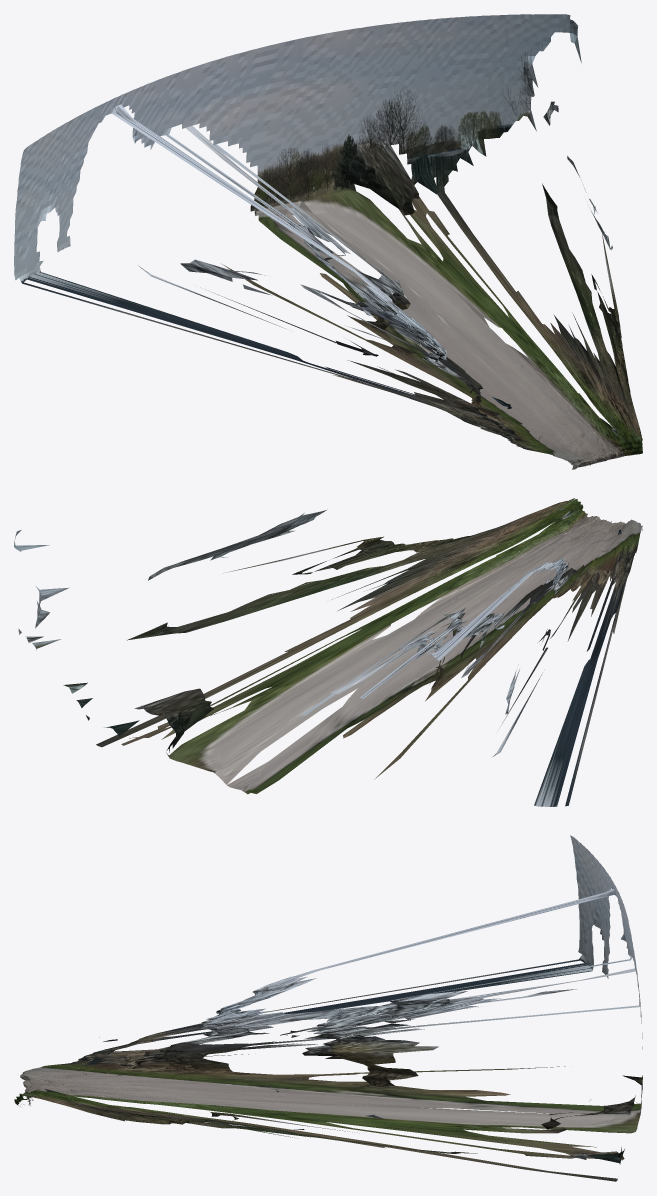
3 renders of one model, top to bottom at view 1: azimuth 30°, elevation 25°; view 2: azimuth 150°, elevation 25°; view 3: azimuth 270°, elevation 25°, orthographic. The views are drawn at different scales.
Parts seen in each view (by area): view 1: defaultobject; view 2: defaultobject; view 3: defaultobject.
Boxes of the visible parts, box(x1,y1,x2,y2) form: defaultobject: box(14, 14, 642, 469); defaultobject: box(14, 498, 642, 806); defaultobject: box(14, 835, 642, 1181).
Bounding box in the file's own units: 40.8 × 12.83 × 44.68.
1 material, 1 textured.
